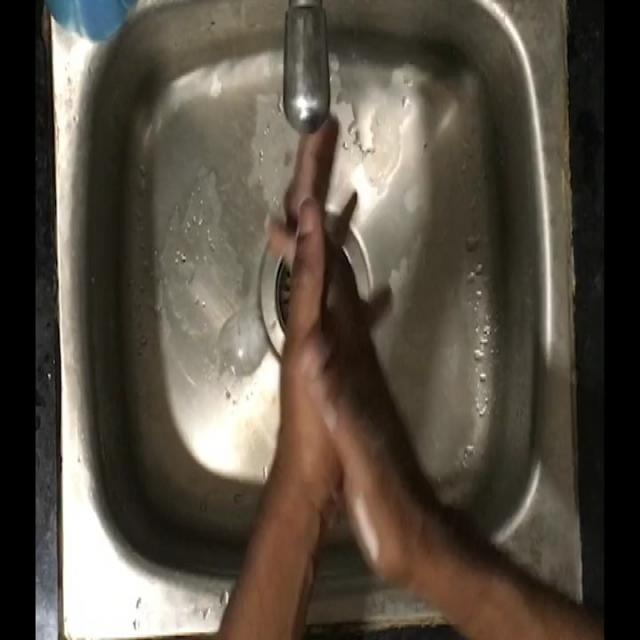step_3: (254, 95, 410, 488)
